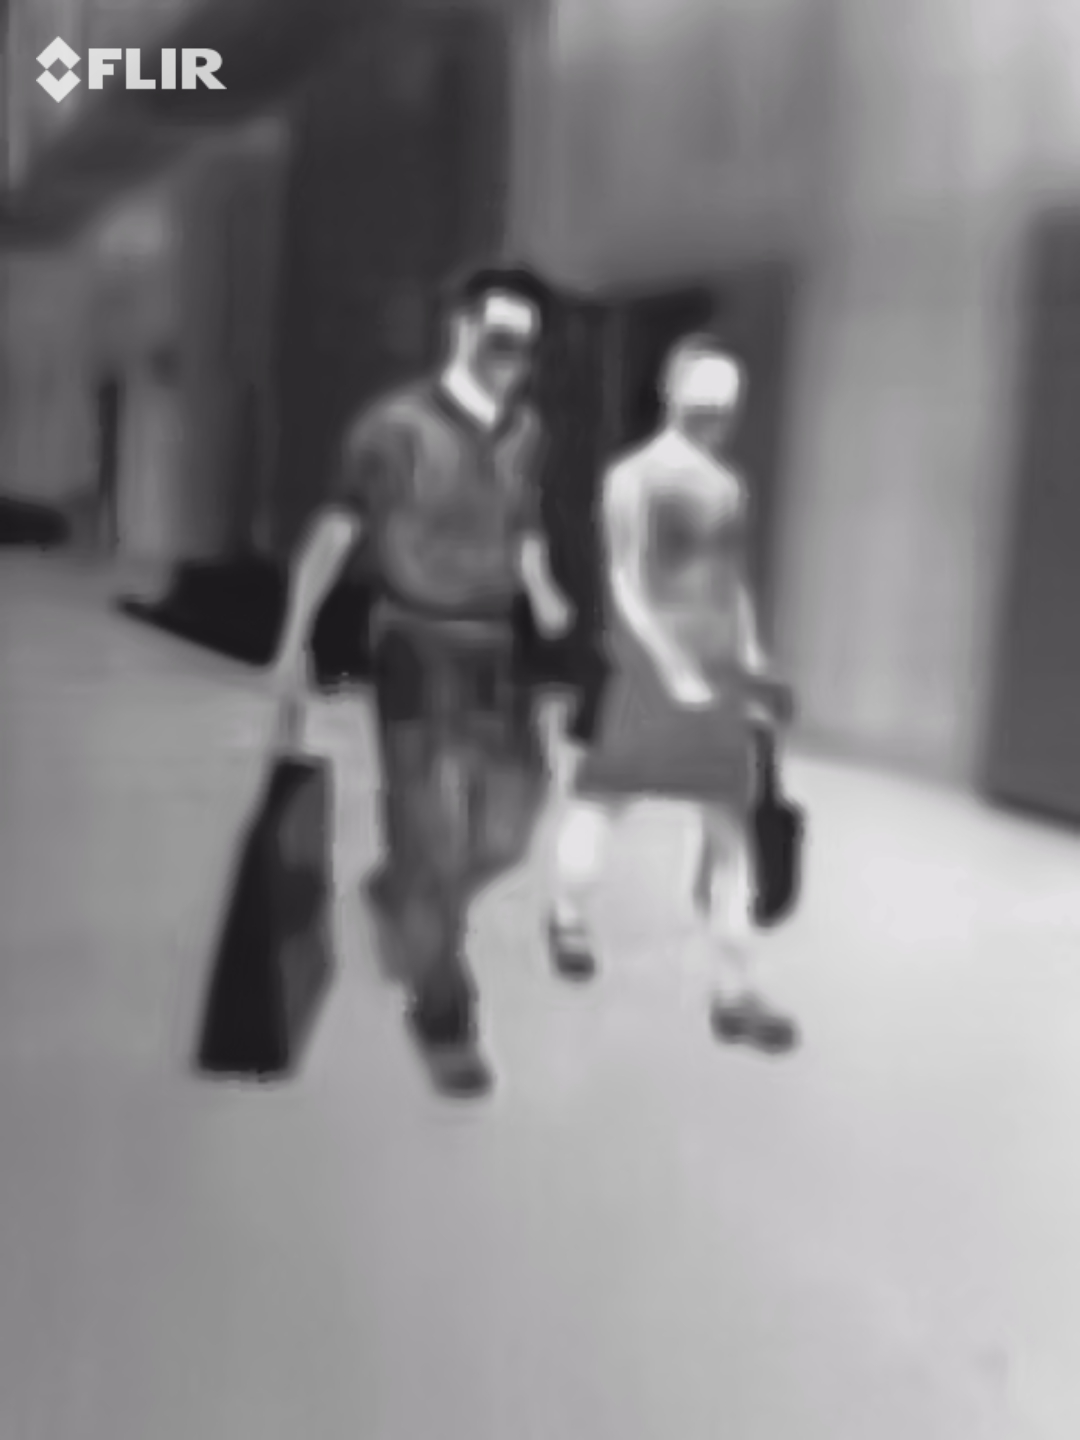head: (442, 265, 545, 401), (650, 333, 748, 456)
